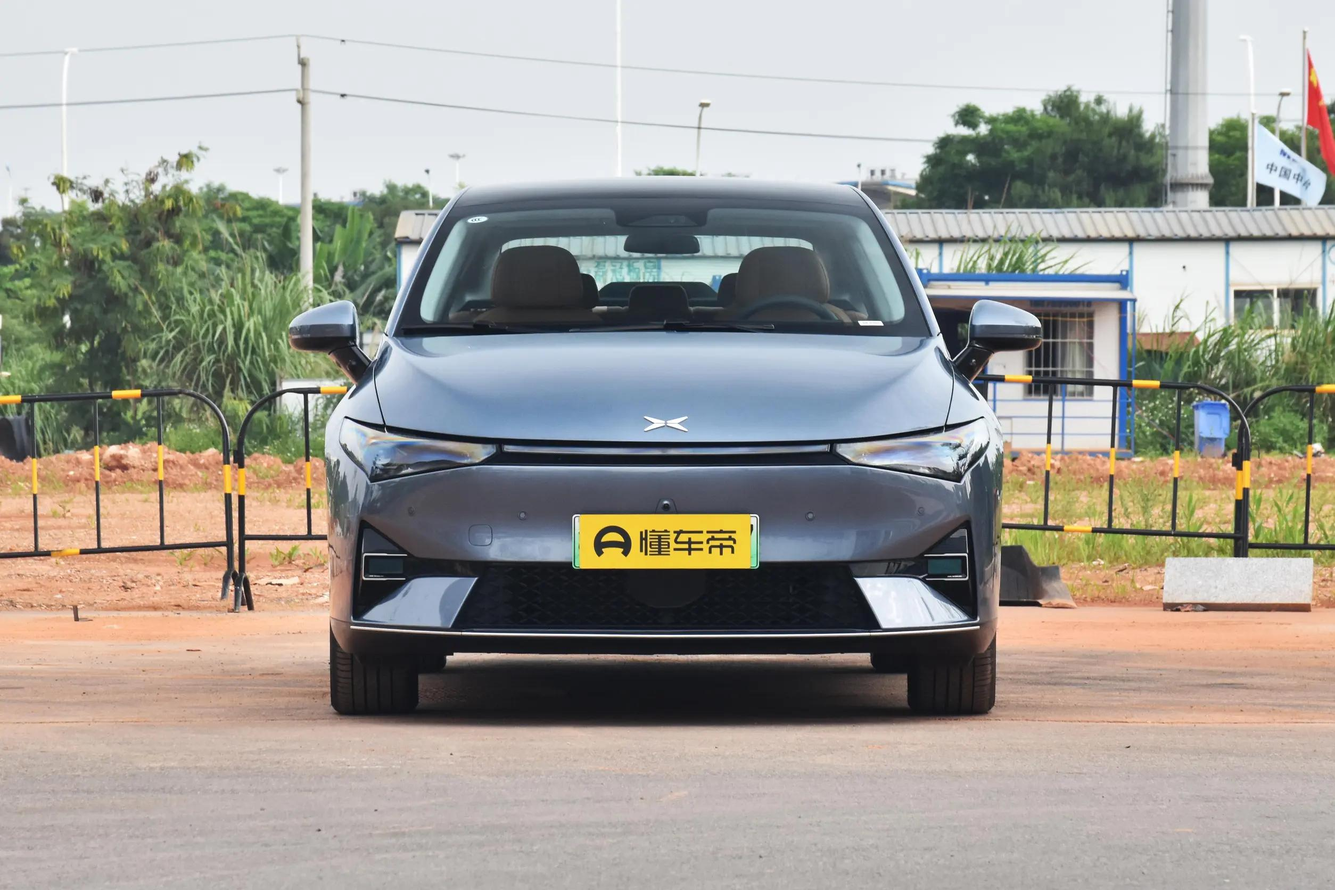XPeng Motors: (644, 415, 689, 432)
